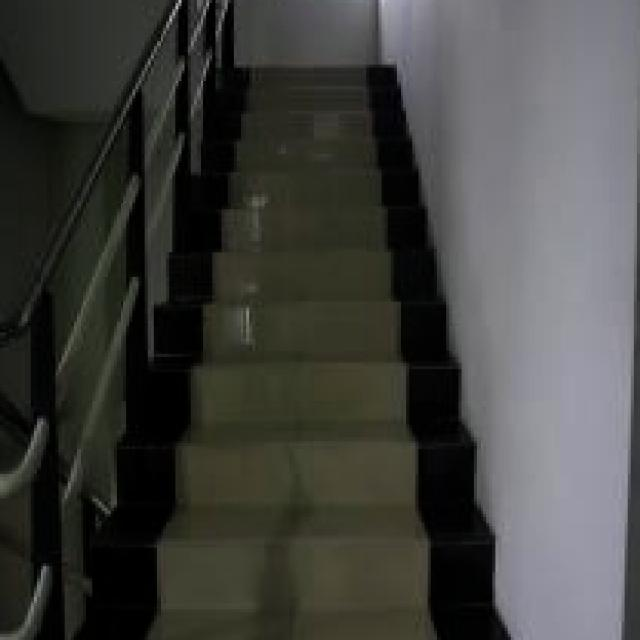upstair: (232, 56, 432, 640)
